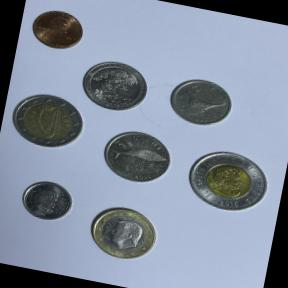1 Euro-B: (80, 197, 163, 268)
2 Euro-B: (2, 86, 91, 156)
Canada-10cent-B: (14, 170, 80, 229)
Canada-2Dollar-B: (178, 140, 276, 222)
Croatia-2Kune-B: (94, 121, 178, 190)
US-1cent-B: (24, 3, 88, 56)
US-25cent-B: (74, 53, 154, 117)
